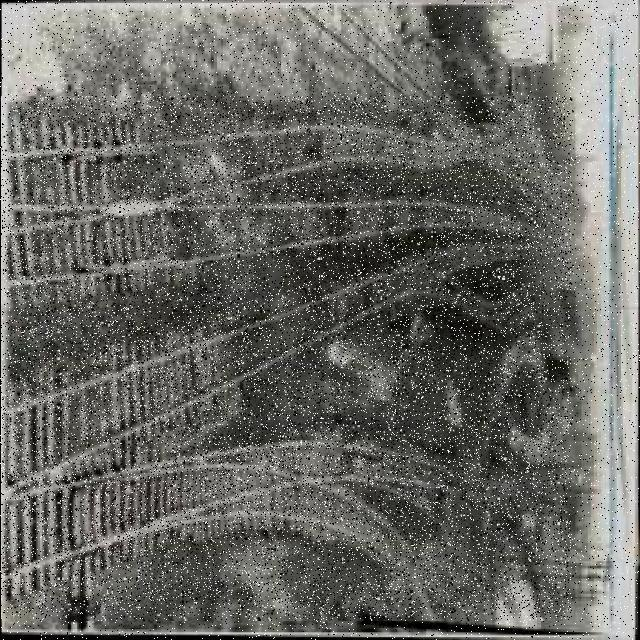rail: (1, 97, 571, 619)
